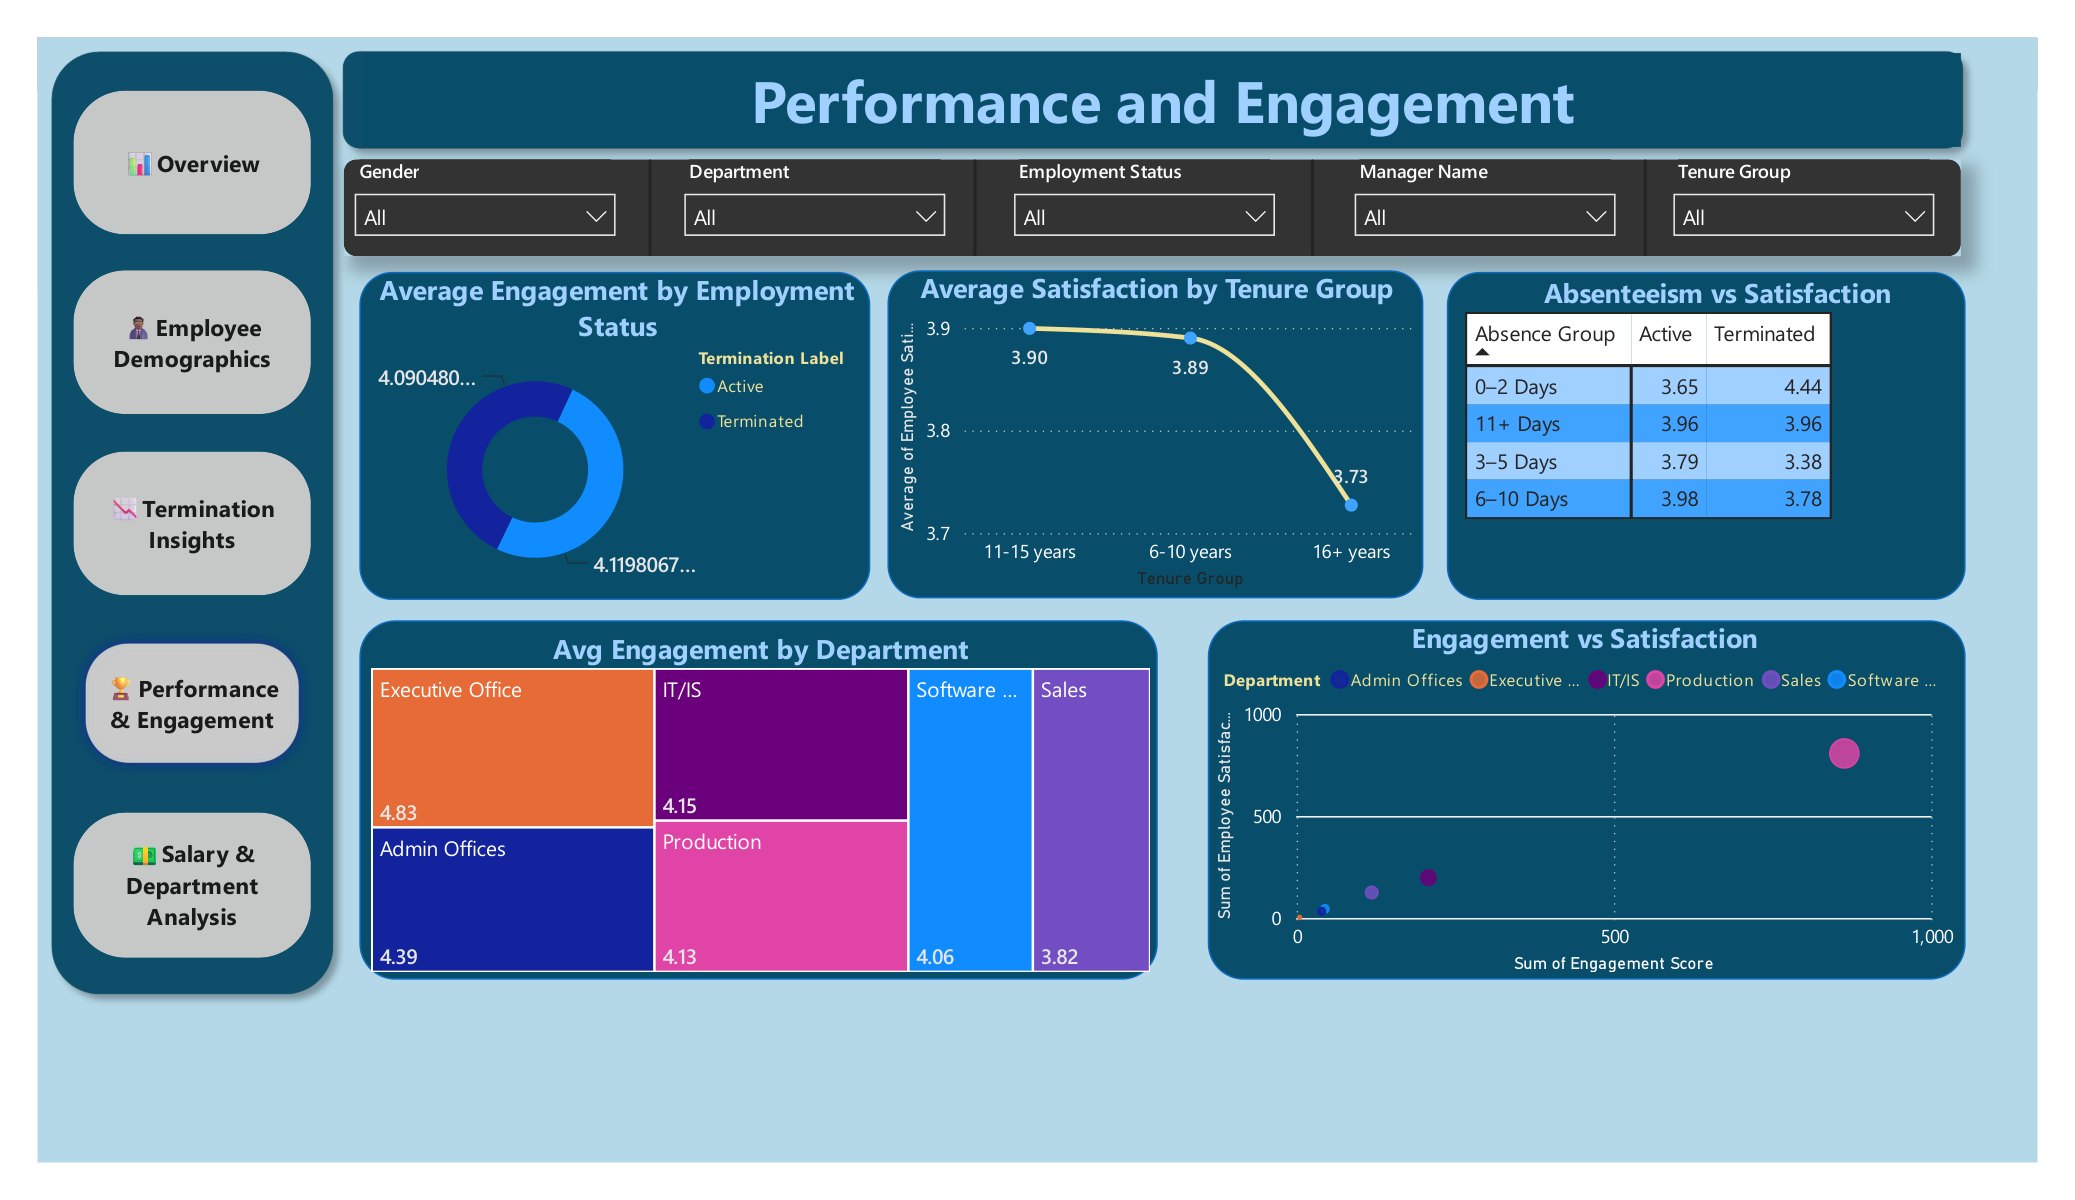

Layout of this report page (visuals, bound fields, positions):
{"tool":"powerbi","page":{"name":"Performance and Engagement","canvas":[1280,720],"ordinal":3},"visuals":[{"type":"shape","box":[0,0,198,621.4],"z":0},{"type":"actionButton","box":[23.1,33.7,152,91.8],"z":1000},{"type":"actionButton","box":[23.1,149.2,152,91.8],"z":2000},{"type":"actionButton","box":[23.1,264.8,152,91.8],"z":3000},{"type":"actionButton","box":[23.1,380.4,152,91.8],"z":4000},{"type":"actionButton","box":[23.1,495.9,152,92.9],"z":5000},{"type":"shape","box":[187,0,1054,80],"z":6000},{"type":"textbox","box":[209,10,1022,60],"z":7000},{"type":"shape","box":[196,78,1035,62],"z":8000},{"type":"slicer","fields":{"Values":["HRDataset_v14.Gender"]},"box":[198,78,177,64],"z":9000},{"type":"shape","box":[365,78,54,62],"z":10000},{"type":"slicer","fields":{"Values":["HRDataset_v14.Department"]},"box":[409,78,177,65],"z":11000},{"type":"slicer","fields":{"Values":["HRDataset_v14.Employment Status"]},"box":[620,78,177,64],"z":12000},{"type":"slicer","fields":{"Values":["HRDataset_v14.Manager Name"]},"box":[838,78,177,59],"z":13000},{"type":"slicer","fields":{"Values":["HRDataset_v14.Tenure Group"]},"box":[1042,78,177,62],"z":14000},{"type":"shape","box":[573,78,54,62],"z":15000},{"type":"shape","box":[789,78,54,62],"z":16000},{"type":"shape","box":[1002,78,54,62],"z":17000},{"type":"shape","box":[749,373,485,230],"z":18000},{"type":"shape","box":[902,150,332,210],"z":19000},{"type":"shape","box":[206,373,511,230],"z":20000},{"type":"treemap","title":" Avg Engagement by Department","fields":{"Group":["HRDataset_v14.Department"],"Values":["Avg(HRDataset_v14.Engagement Score)"]},"box":[209,380,508,223],"z":21000},{"type":"shape","box":[544,149,343,210],"z":21500},{"type":"scatterChart","title":"Engagement vs Satisfaction","fields":{"Y":["Sum(HRDataset_v14.Employee Satisfaction)"],"X":["Sum(HRDataset_v14.Engagement Score)"],"Size":["CountNonNull(HRDataset_v14.Tenure)"],"Series":["HRDataset_v14.Department"]},"box":[749,373,482,230],"z":22000},{"type":"lineChart","title":"Average Satisfaction by Tenure Group","fields":{"Category":["HRDataset_v14.Tenure Group"],"Y":["Avg(HRDataset_v14.Employee Satisfaction)"]},"box":[546,149,341,208],"z":23000},{"type":"pivotTable","title":"Absenteeism vs Satisfaction","fields":{"Rows":["HRDataset_v14.Absence Group"],"Columns":["HRDataset_v14.Termination Label"],"Values":["Avg(HRDataset_v14.Employee Satisfaction)"]},"box":[909,152,332,208],"z":24000},{"type":"shape","box":[206,150,327,210],"z":25500},{"type":"donutChart","title":"Average Engagement by Employment Status","fields":{"Category":["HRDataset_v14.Termination Label"],"Y":["Avg(HRDataset_v14.Engagement Score)"]},"box":[209,150,324,210],"z":26000}]}

Visuals, with their boxes on the page's 1280x720 design canvas (x1, y1, x2, y2). These are canvas units, not pixel positions in the 2075x1200 screenshot, which may show the page scaled, cropped or inside an application window:
shape: [0, 0, 198, 621]
actionButton: [23, 34, 175, 126]
actionButton: [23, 149, 175, 241]
actionButton: [23, 265, 175, 357]
actionButton: [23, 380, 175, 472]
actionButton: [23, 496, 175, 589]
shape: [187, 0, 1241, 80]
textbox: [209, 10, 1231, 70]
shape: [196, 78, 1231, 140]
slicer - HRDataset_v14.Gender: [198, 78, 375, 142]
shape: [365, 78, 419, 140]
slicer - HRDataset_v14.Department: [409, 78, 586, 143]
slicer - HRDataset_v14.Employment Status: [620, 78, 797, 142]
slicer - HRDataset_v14.Manager Name: [838, 78, 1015, 137]
slicer - HRDataset_v14.Tenure Group: [1042, 78, 1219, 140]
shape: [573, 78, 627, 140]
shape: [789, 78, 843, 140]
shape: [1002, 78, 1056, 140]
shape: [749, 373, 1234, 603]
shape: [902, 150, 1234, 360]
shape: [206, 373, 717, 603]
" Avg Engagement by Department" treemap: [209, 380, 717, 603]
shape: [544, 149, 887, 359]
"Engagement vs Satisfaction" scatterChart: [749, 373, 1231, 603]
"Average Satisfaction by Tenure Group" lineChart: [546, 149, 887, 357]
"Absenteeism vs Satisfaction" pivotTable: [909, 152, 1241, 360]
shape: [206, 150, 533, 360]
"Average Engagement by Employment Status" donutChart: [209, 150, 533, 360]
